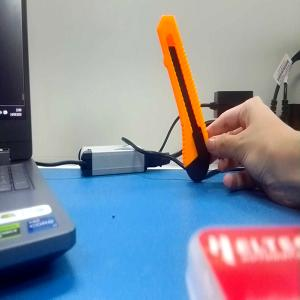estilete: (157, 15, 211, 183)
